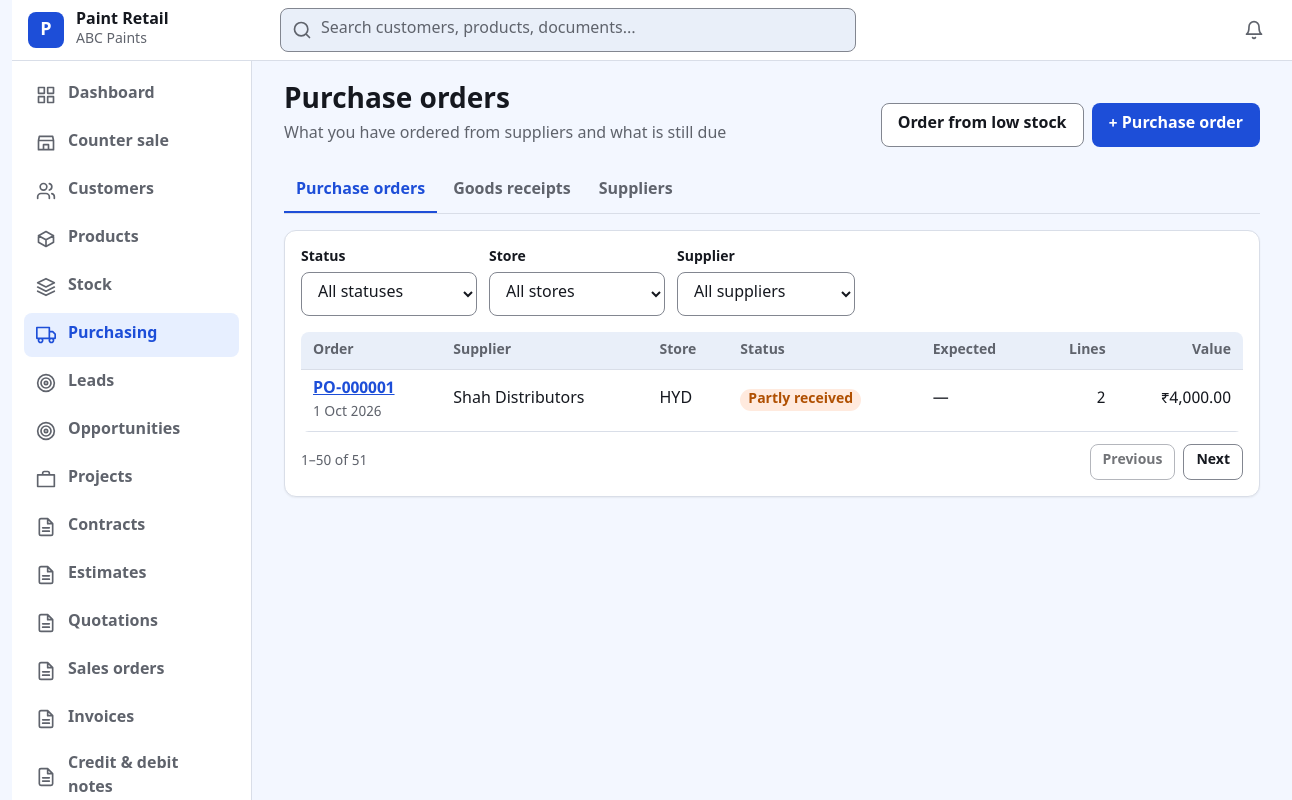
PurchaseOrdersPage › pages through many orders
Check: the text "1–50 of 51" is shown, box [301,451,367,472]
Click the button "Next" at (1213, 462), box [1184,444,1243,480]
(page scrolled)
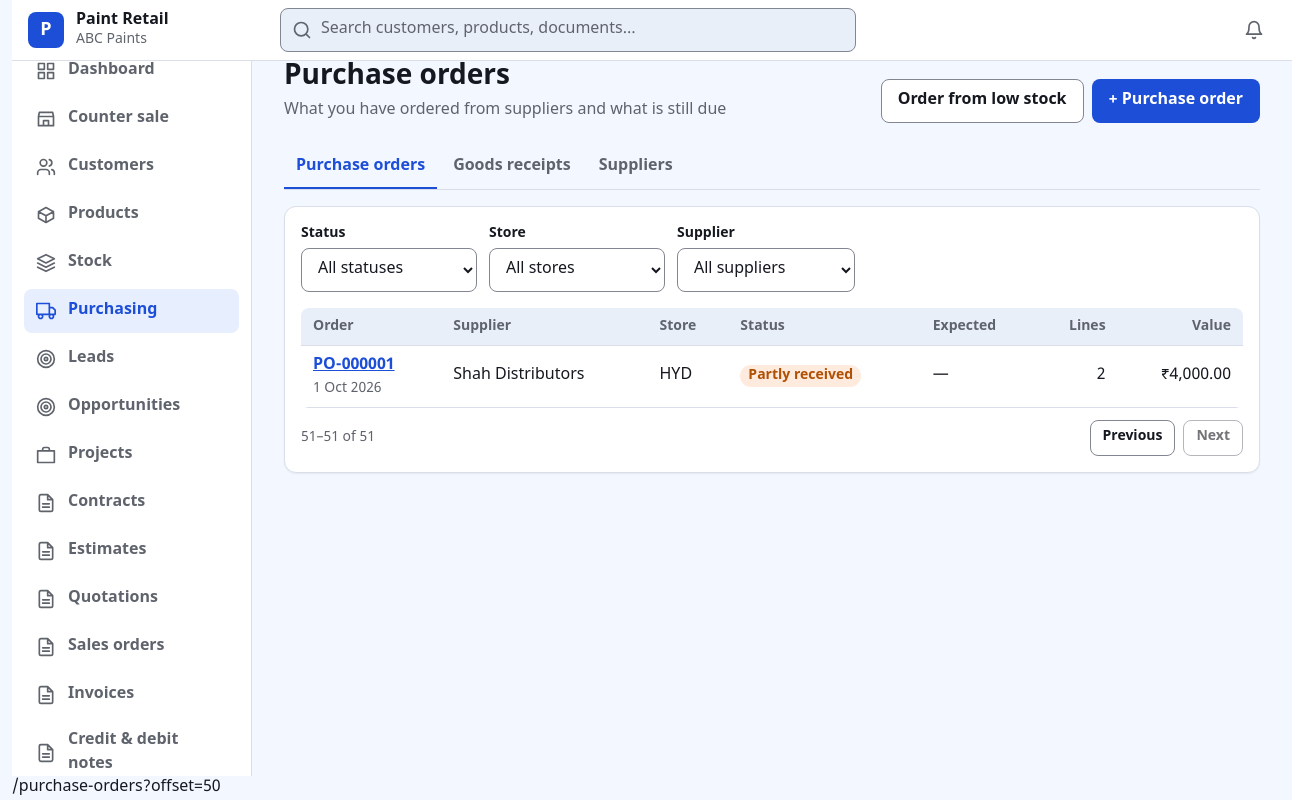
Check: the text with test id "location" reads "/purchase-orders?offset=50", box [12,777,220,798]
